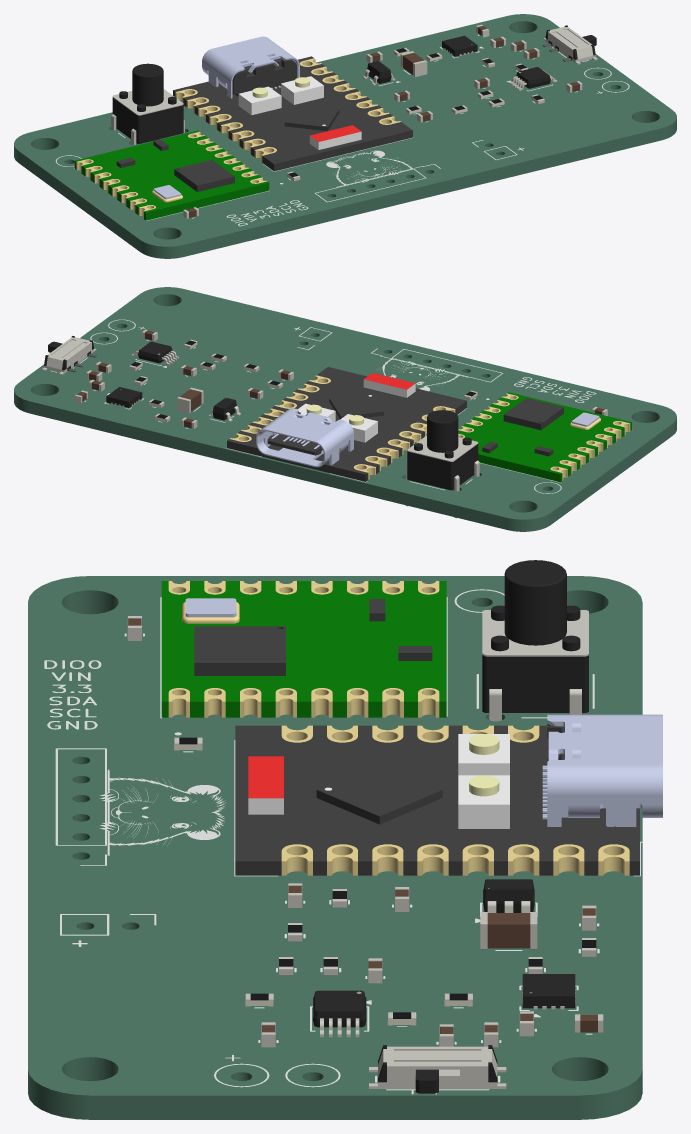
Rendered from lora_ch1.glb.
The picture shows the model from 3 angles, top to bottom: view 1: azimuth 30°, elevation 25°; view 2: azimuth 150°, elevation 25°; view 3: azimuth 270°, elevation 25°; orthographic projection. The views are drawn at different scales.
Visible parts, largest first — view 1: =>[0:1:1:26], NAUO1, =>[0:1:1:11], =>[0:1:1:13], NAUO2, NAUO3, =>[0:1:1:25], =>[0:1:1:24], =>[0:1:1:5], =>[0:1:1:9], =>[0:1:1:22], =>[0:1:1:15]; view 2: =>[0:1:1:26], =>[0:1:1:11], NAUO1, =>[0:1:1:13], NAUO2, NAUO3, =>[0:1:1:25], =>[0:1:1:24], =>[0:1:1:5], =>[0:1:1:9], =>[0:1:1:22], =>[0:1:1:15]; view 3: =>[0:1:1:26], NAUO1, =>[0:1:1:11], =>[0:1:1:13], NAUO2, NAUO3, =>[0:1:1:25], =>[0:1:1:24], =>[0:1:1:5], =>[0:1:1:22], =>[0:1:1:9], =>[0:1:1:15].
Part boxes in pixels (x1,y1,x2,y2): =>[0:1:1:26]: (14,14,676,258); NAUO1: (173,56,412,171); =>[0:1:1:11]: (74,130,269,220); =>[0:1:1:13]: (111,63,184,144); NAUO2: (202,36,299,98); NAUO3: (238,76,361,149); =>[0:1:1:25]: (55,34,629,226); =>[0:1:1:24]: (542,25,597,64); =>[0:1:1:5]: (509,67,557,90); =>[0:1:1:9]: (442,35,477,56); =>[0:1:1:22]: (400,51,427,77); =>[0:1:1:15]: (363,61,395,85); =>[0:1:1:26]: (14,287,676,531); =>[0:1:1:11]: (458,392,631,482); NAUO1: (227,367,466,481); =>[0:1:1:13]: (405,410,479,518); NAUO2: (256,408,353,467); NAUO3: (298,373,415,442); =>[0:1:1:25]: (50,319,632,493); =>[0:1:1:24]: (42,336,96,374); =>[0:1:1:5]: (131,341,179,365); =>[0:1:1:9]: (106,387,142,407); =>[0:1:1:22]: (177,387,203,413); =>[0:1:1:15]: (208,397,240,421); =>[0:1:1:26]: (28,576,642,1119); NAUO1: (235,725,639,875); =>[0:1:1:11]: (161,581,446,717); =>[0:1:1:13]: (482,560,588,721); NAUO2: (542,714,662,826); NAUO3: (248,734,509,828); =>[0:1:1:25]: (44,589,642,1094); =>[0:1:1:24]: (369,1045,506,1093); =>[0:1:1:5]: (313,990,366,1037); =>[0:1:1:22]: (480,912,537,949); =>[0:1:1:9]: (522,974,575,1009); =>[0:1:1:15]: (483,879,534,912).
Size of the model in its own units: 0.0698 by 0.0108 by 0.0356.
